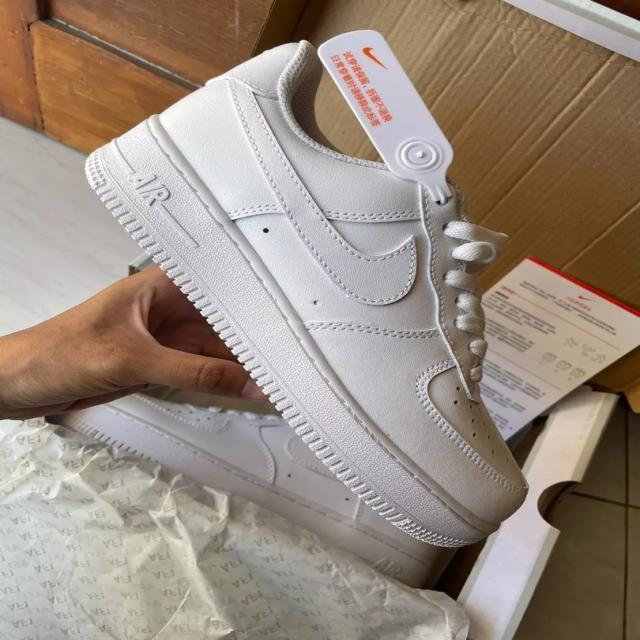nike original air force: (78, 35, 530, 548)
